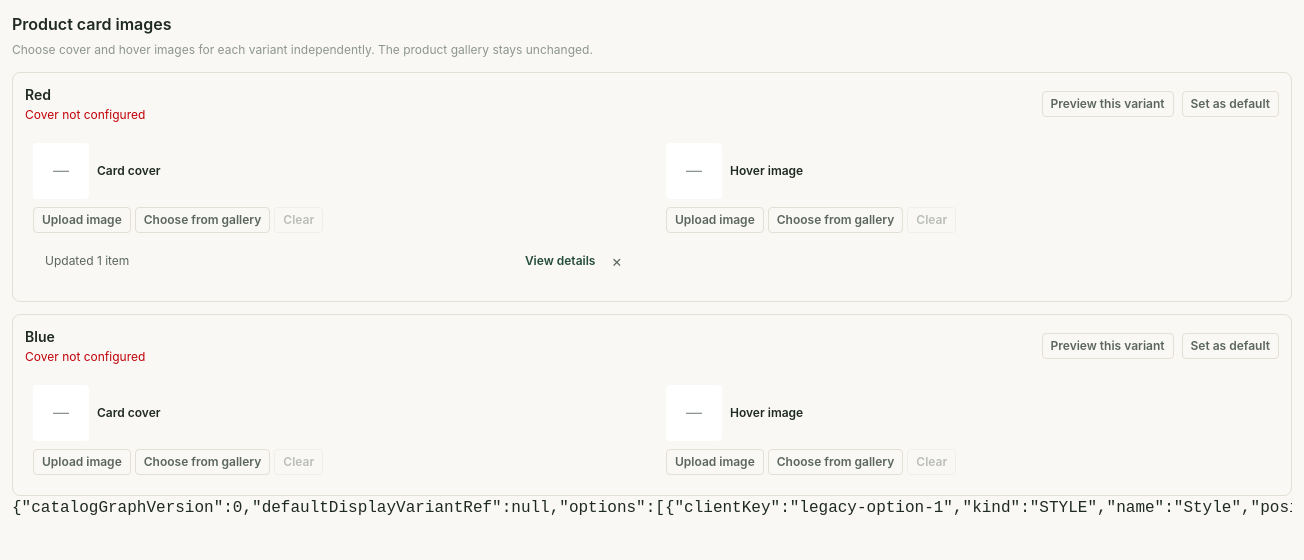
ProductCardMediaEditor › reuses the existing collapsed upload receipt without exposing another slot's records
The width and height of the screenshot is (1304, 560).
Expected: the message "Updated 1 item" is shown, [45,252,129,268]
Expected: the text "own.webp" is not shown
Click the button "View details": {"x": 560, "y": 260} [525,252,595,268]
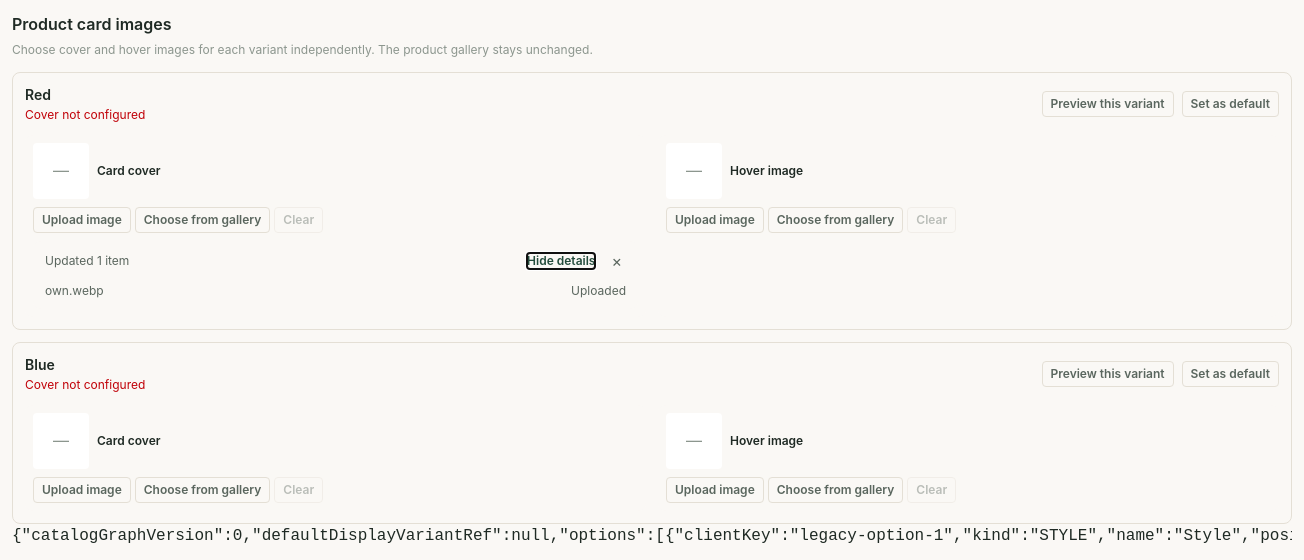
Result: the list named "Media upload queue" shows "own.webp" at [45,282,104,298]
